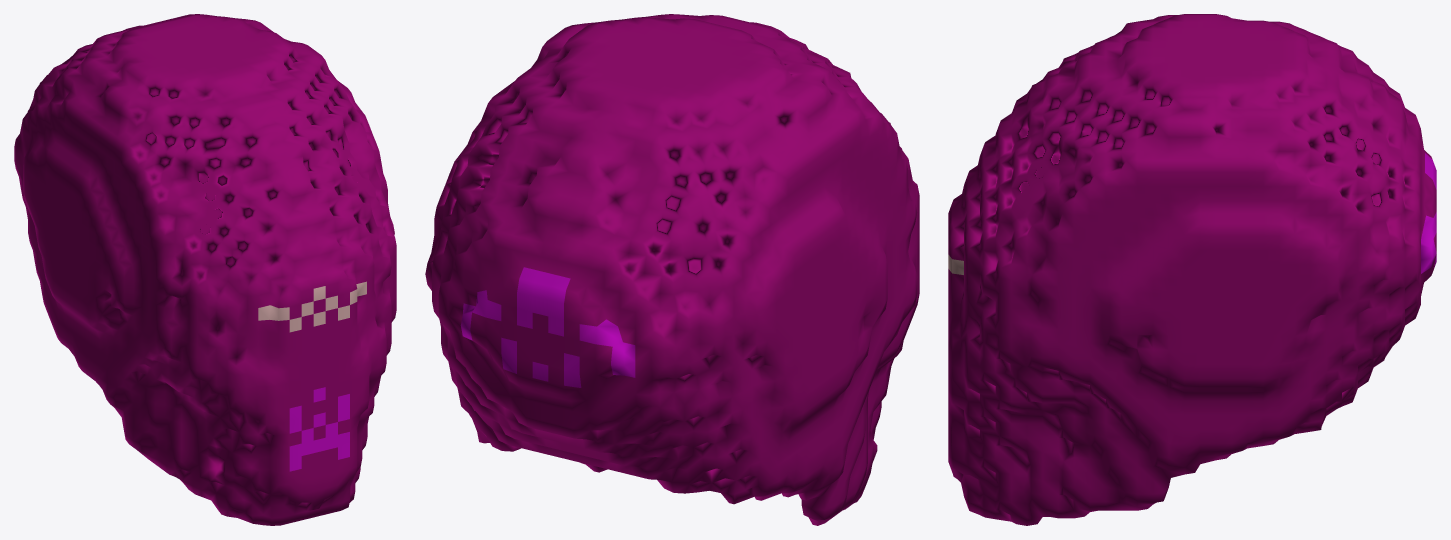
3 views of the same model, side by side, from view 1: azimuth 30°, elevation 25°; view 2: azimuth 150°, elevation 25°; view 3: azimuth 270°, elevation 25° (orthographic). The views are drawn at different scales.
Size of the model in its own units: 1.05 by 1.55 by 1.55.
